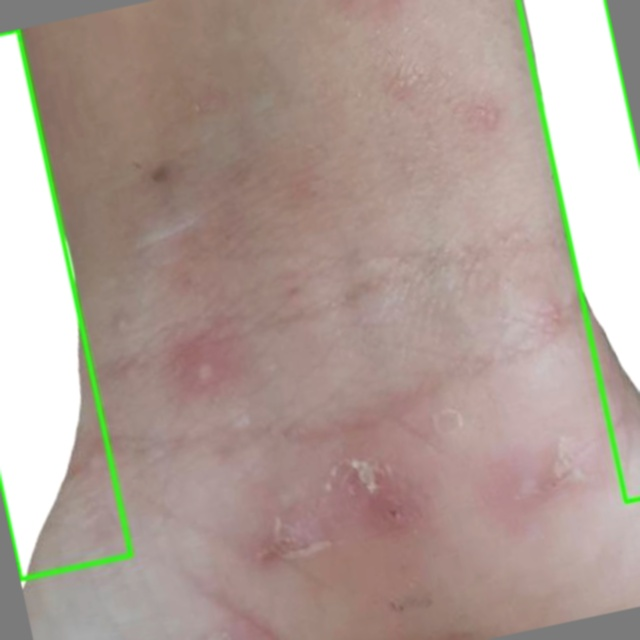Scabies: (0, 29, 132, 580), (518, 0, 639, 501)
